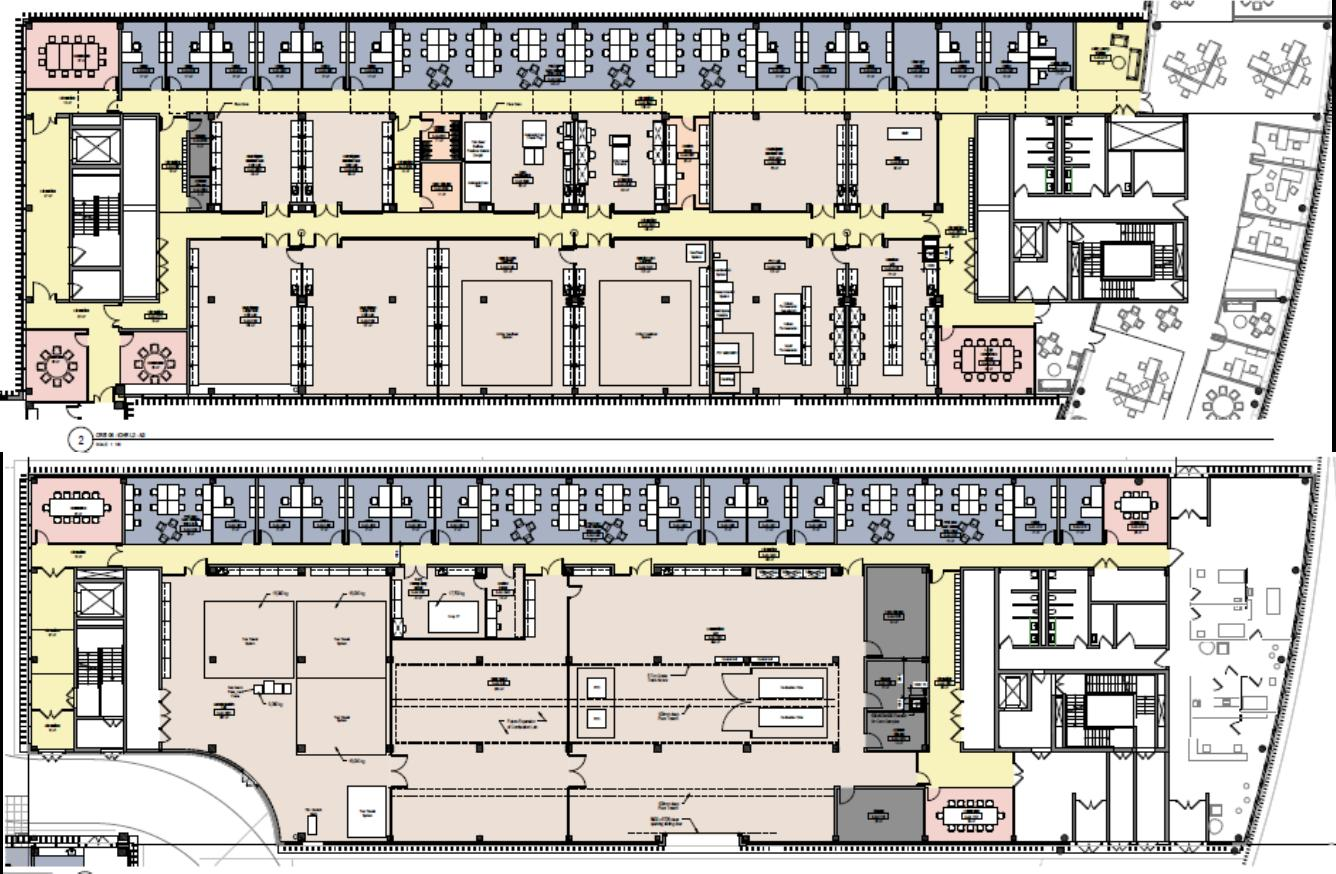room: (711, 238, 939, 395), (393, 18, 757, 89), (573, 239, 710, 397), (438, 238, 572, 397), (303, 241, 439, 396), (189, 239, 300, 397), (711, 113, 846, 209), (836, 476, 1013, 545), (480, 477, 657, 544), (461, 111, 574, 212), (1052, 671, 1167, 750), (576, 112, 666, 212), (211, 112, 301, 211), (848, 112, 937, 211), (302, 112, 391, 211), (24, 115, 68, 300), (20, 19, 120, 90), (392, 566, 488, 639), (938, 325, 1034, 395), (30, 476, 123, 544), (122, 476, 212, 543), (865, 566, 927, 659), (72, 167, 121, 268), (835, 787, 924, 842), (926, 787, 1014, 841), (24, 328, 88, 402), (1012, 221, 1069, 300), (1103, 478, 1169, 544), (997, 671, 1052, 749), (121, 331, 186, 395), (667, 116, 710, 208), (1011, 115, 1058, 196), (118, 18, 166, 91), (801, 18, 848, 90), (302, 18, 348, 91), (1046, 569, 1089, 647), (997, 569, 1040, 647), (1062, 116, 1105, 194), (1029, 18, 1075, 90), (211, 18, 256, 91), (348, 17, 393, 90), (938, 17, 983, 90), (256, 18, 302, 89), (983, 18, 1029, 89), (848, 18, 893, 90), (167, 18, 211, 90), (757, 18, 801, 90), (1058, 476, 1104, 544), (894, 18, 938, 89), (301, 476, 346, 544), (791, 477, 836, 544), (435, 477, 480, 544), (390, 476, 435, 543), (212, 476, 256, 544), (702, 477, 747, 543), (658, 477, 703, 543), (1014, 477, 1058, 544), (346, 476, 390, 543), (257, 476, 301, 543), (747, 477, 791, 543), (487, 566, 524, 638), (1090, 568, 1167, 602), (865, 710, 927, 750), (1132, 151, 1187, 194), (1114, 603, 1167, 647), (420, 111, 461, 162), (421, 162, 461, 211), (865, 659, 903, 710), (71, 267, 121, 300), (1090, 603, 1115, 647), (1108, 150, 1132, 194), (187, 175, 211, 210), (188, 113, 210, 144)
